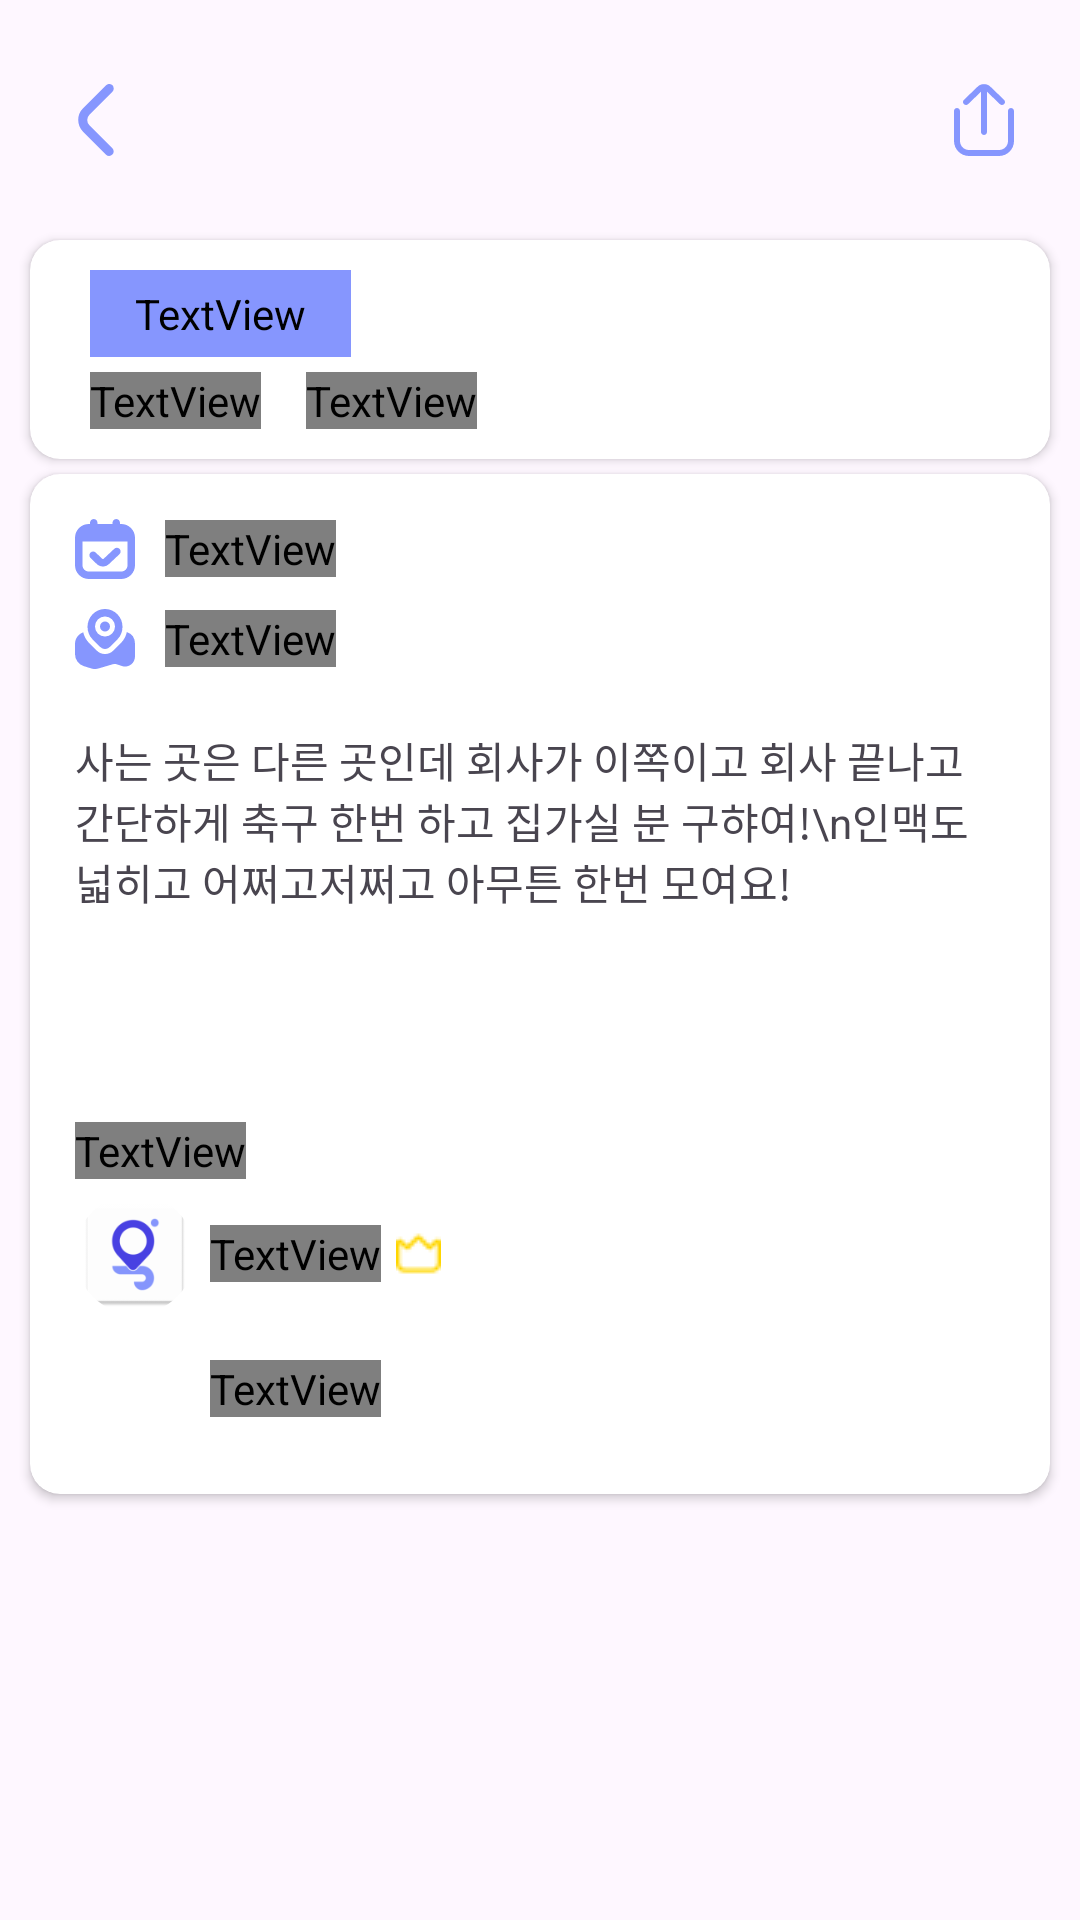

Where icons sit on this 1080x1920 app screen, as (x1, y1, x2, y2):
before: (78, 84, 114, 156)
calendar: (75, 519, 135, 579)
crown: (396, 1233, 441, 1274)
map: (75, 609, 135, 669)
share: (954, 84, 1014, 156)
